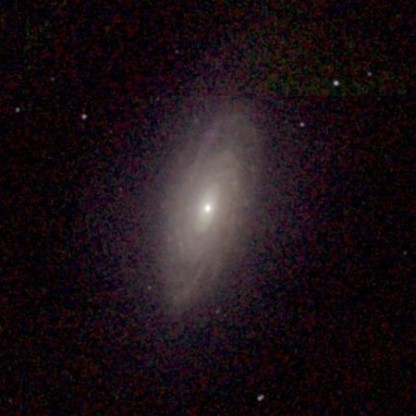NGC 3521: (92, 81, 309, 364)
